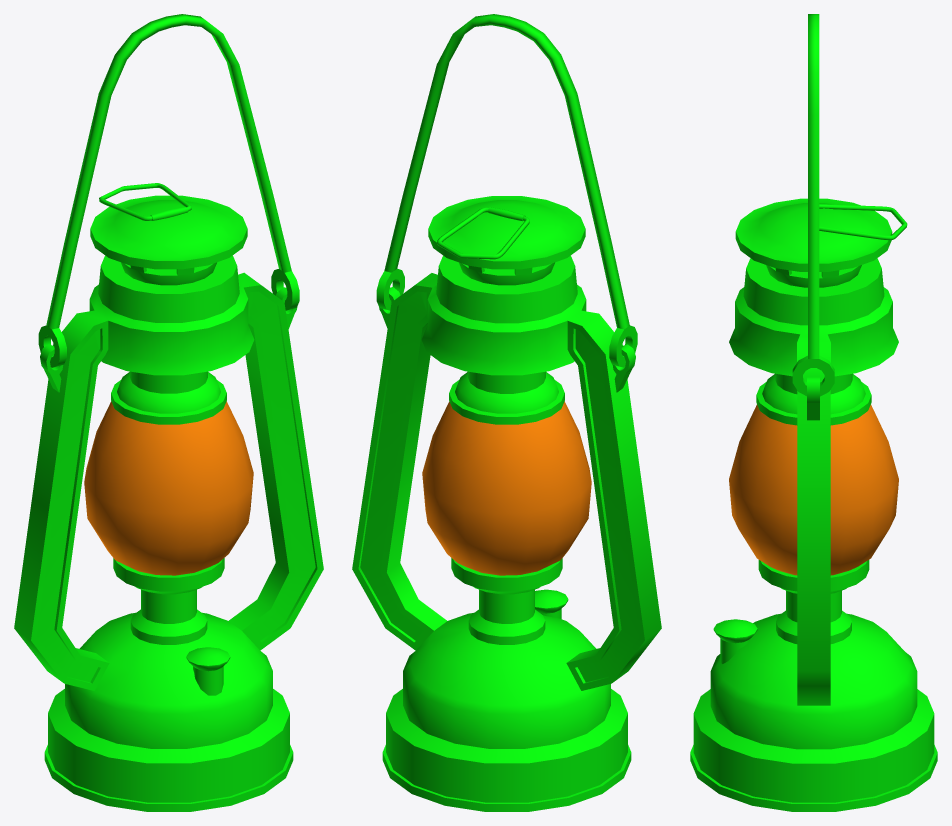
Rendered from OilLamp.fbx.
3 views of the same model, side by side, from view 1: azimuth 30°, elevation 25°; view 2: azimuth 150°, elevation 25°; view 3: azimuth 270°, elevation 25° (orthographic).
Parts seen in each view (by area): view 1: Lampe, PoignetLampe, AttacheLampe; view 2: Lampe, PoignetLampe, AttacheLampe; view 3: Lampe, PoignetLampe, AttacheLampe.
Part boxes in pixels (x1=…): Lampe: x1=14, y1=195, x2=323, y2=811; PoignetLampe: x1=38, y1=14, x2=299, y2=367; AttacheLampe: x1=99, y1=183, x2=191, y2=220; Lampe: x1=352, y1=196, x2=661, y2=811; PoignetLampe: x1=376, y1=14, x2=637, y2=367; AttacheLampe: x1=437, y1=207, x2=529, y2=259; Lampe: x1=690, y1=198, x2=937, y2=811; PoignetLampe: x1=792, y1=14, x2=834, y2=396; AttacheLampe: x1=819, y1=204, x2=907, y2=240.
Bounding box in the file's own units: 50.64 × 123 × 37.25.
